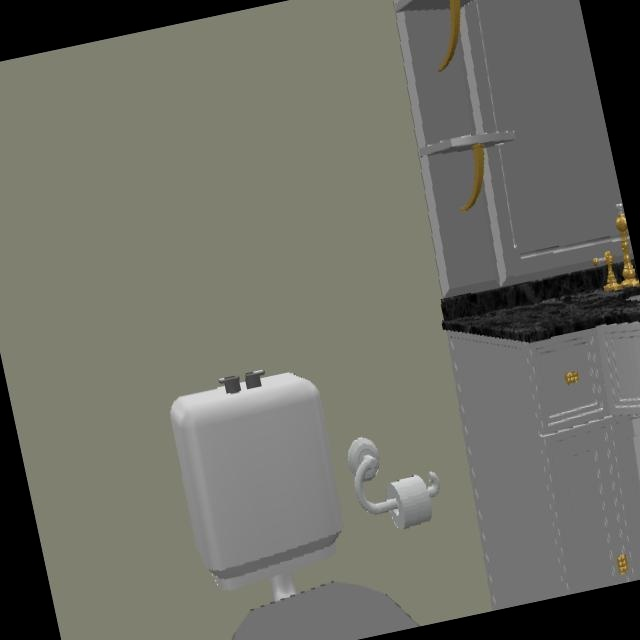cabinet: (446, 321, 640, 609)
toilet: (169, 370, 405, 640)
